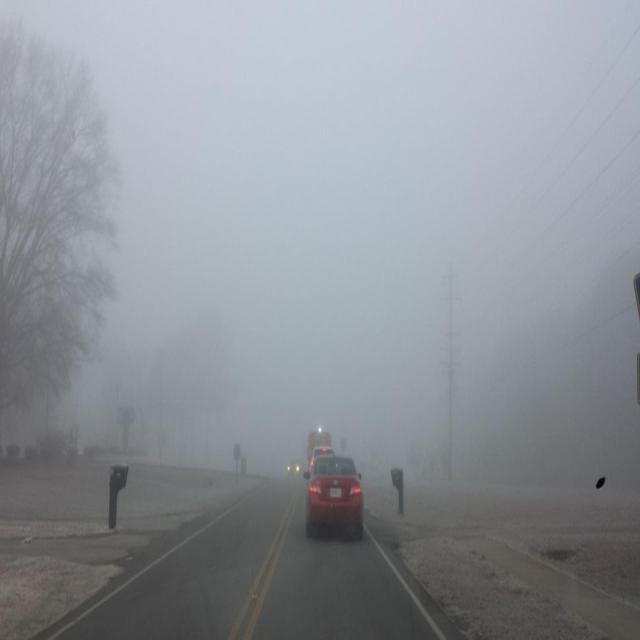Car: (304, 455, 366, 534), (284, 456, 302, 481)
